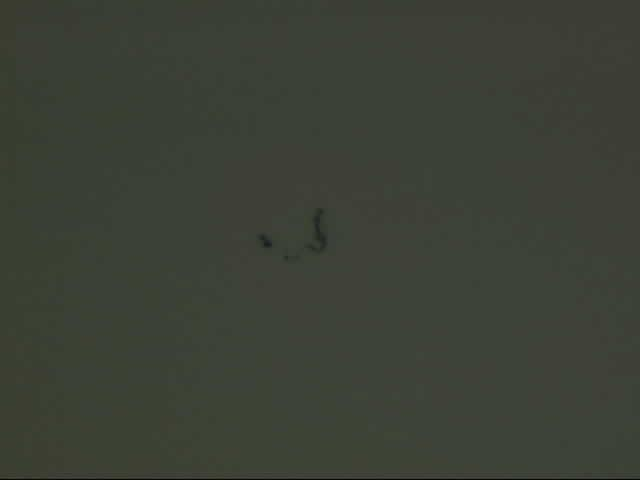PIQ PARTICLE: (255, 203, 333, 269)
